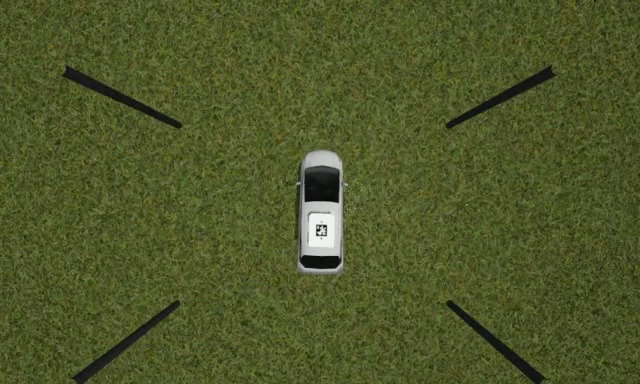Car: (295, 149, 349, 276)
Landing Pad: (308, 212, 336, 249)
